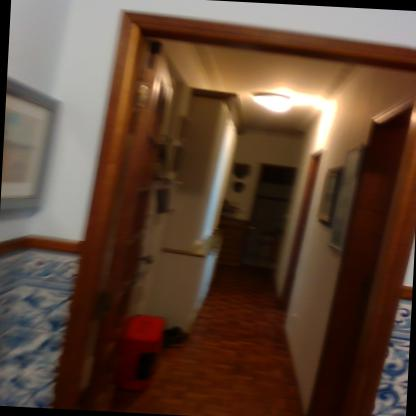open: (47, 3, 415, 415)
